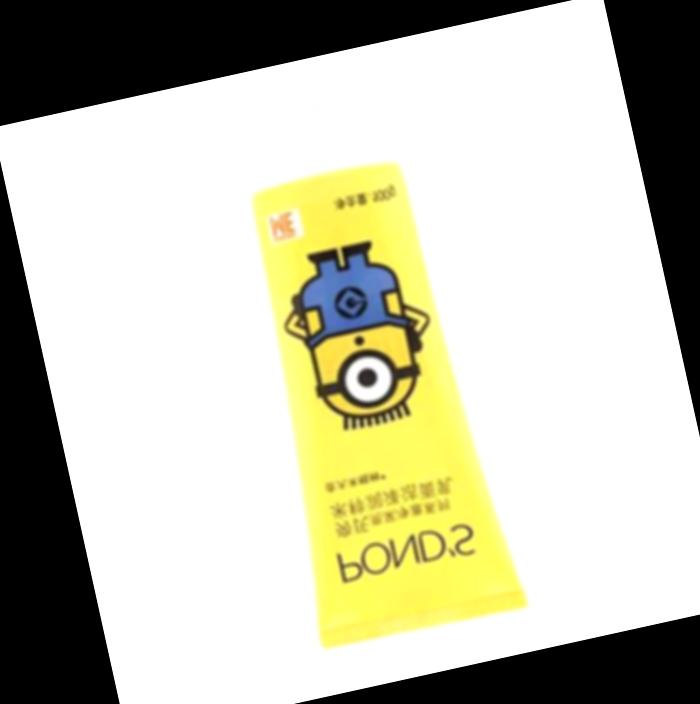cosmetic: (197, 61, 533, 651)
